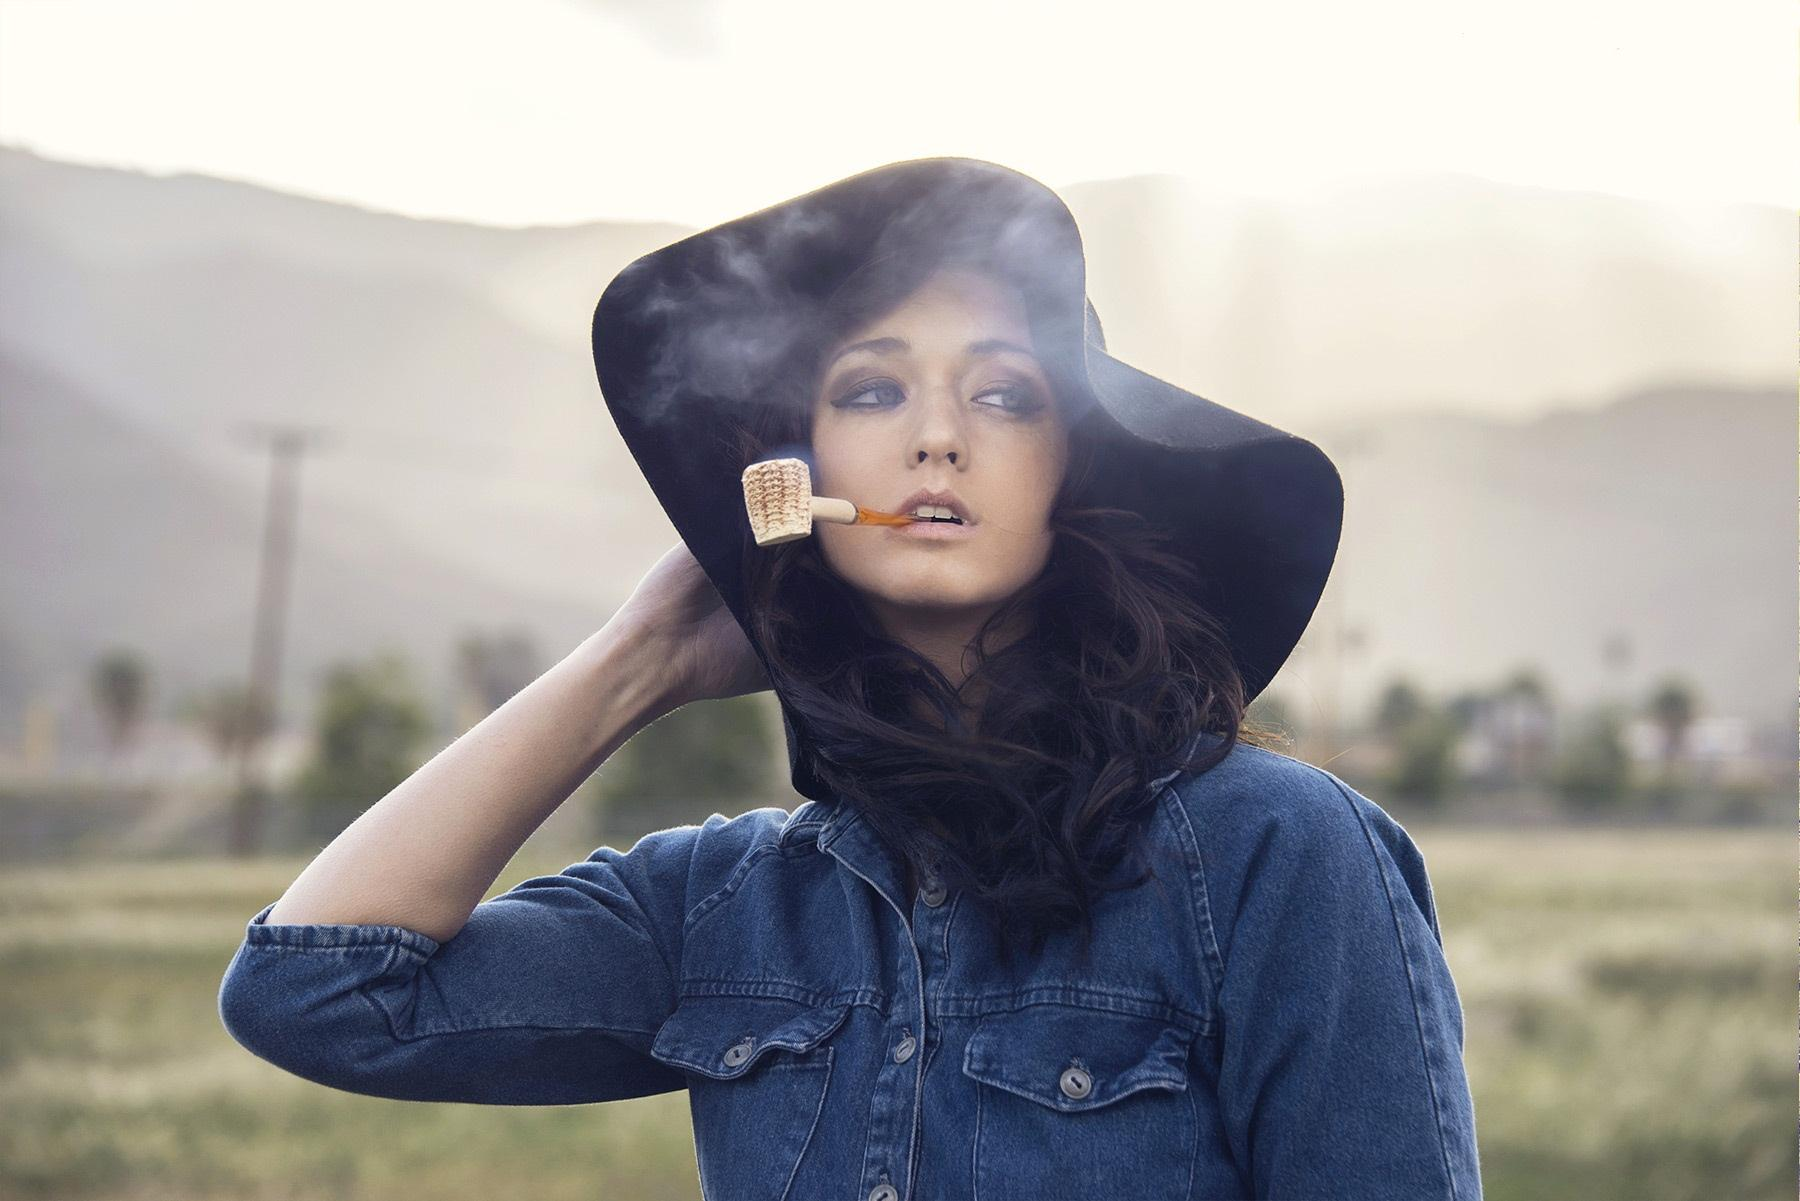trubka: (743, 458, 931, 546)
